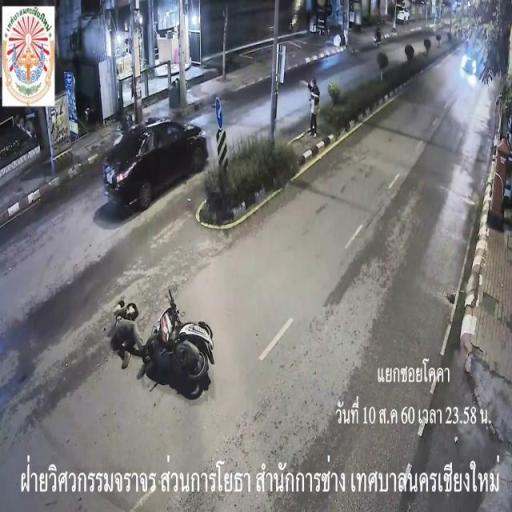Car: (98, 111, 212, 214)
Minor Accident: (139, 293, 217, 389)
Motor: (145, 299, 219, 399)
